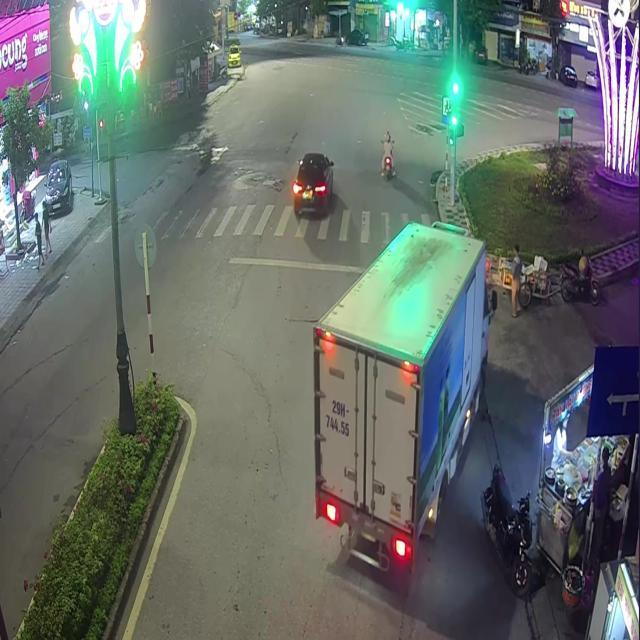car: (312, 221, 488, 573), (291, 151, 332, 215)
green_light: (449, 77, 460, 123)
stop_line: (228, 256, 440, 277)
